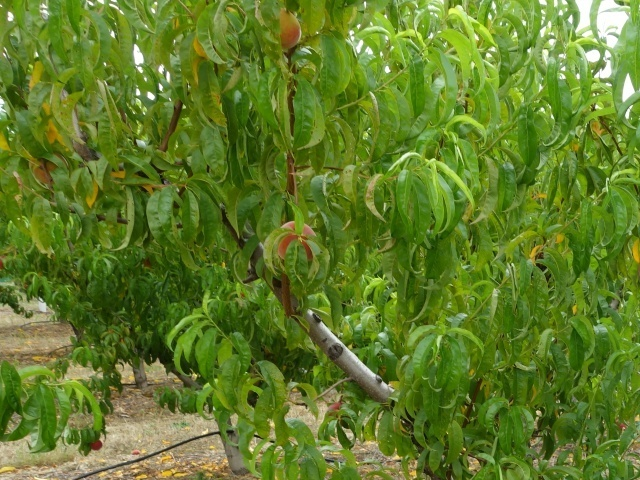peach: (271, 217, 322, 265), (267, 5, 305, 54)
